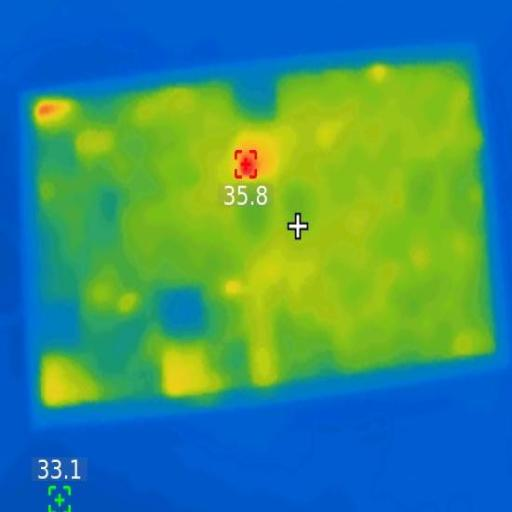hotspot: (238, 155, 254, 176)
